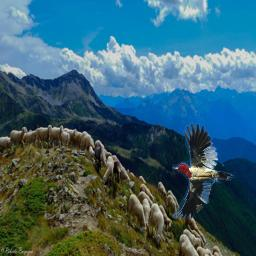Woodpecker: (172, 123, 234, 220)
